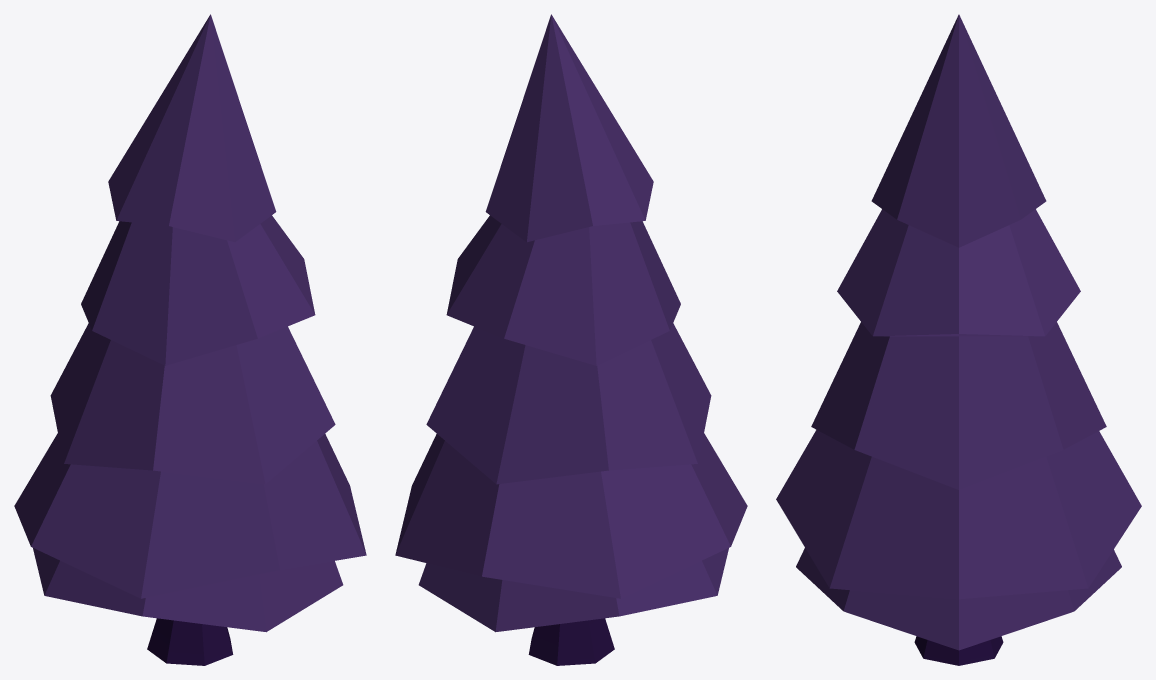
File: Purple_Pine_tree.obj
The picture shows the model from 3 angles, left to right: view 1: azimuth 30°, elevation 25°; view 2: azimuth 150°, elevation 25°; view 3: azimuth 270°, elevation 25°; orthographic projection. The views are drawn at different scales.
Parts seen in each view (by area): view 1: Tree_2_tree_trunk_n3d; view 2: Tree_2_tree_trunk_n3d; view 3: Tree_2_tree_trunk_n3d.
Boxes of the visible parts, x1,y1,x2,y2 form: Tree_2_tree_trunk_n3d: (14,14,366,665); Tree_2_tree_trunk_n3d: (395,14,747,665); Tree_2_tree_trunk_n3d: (776,14,1141,665).
Size of the model in its own units: 232 by 438 by 226.
1 material, 1 textured.
